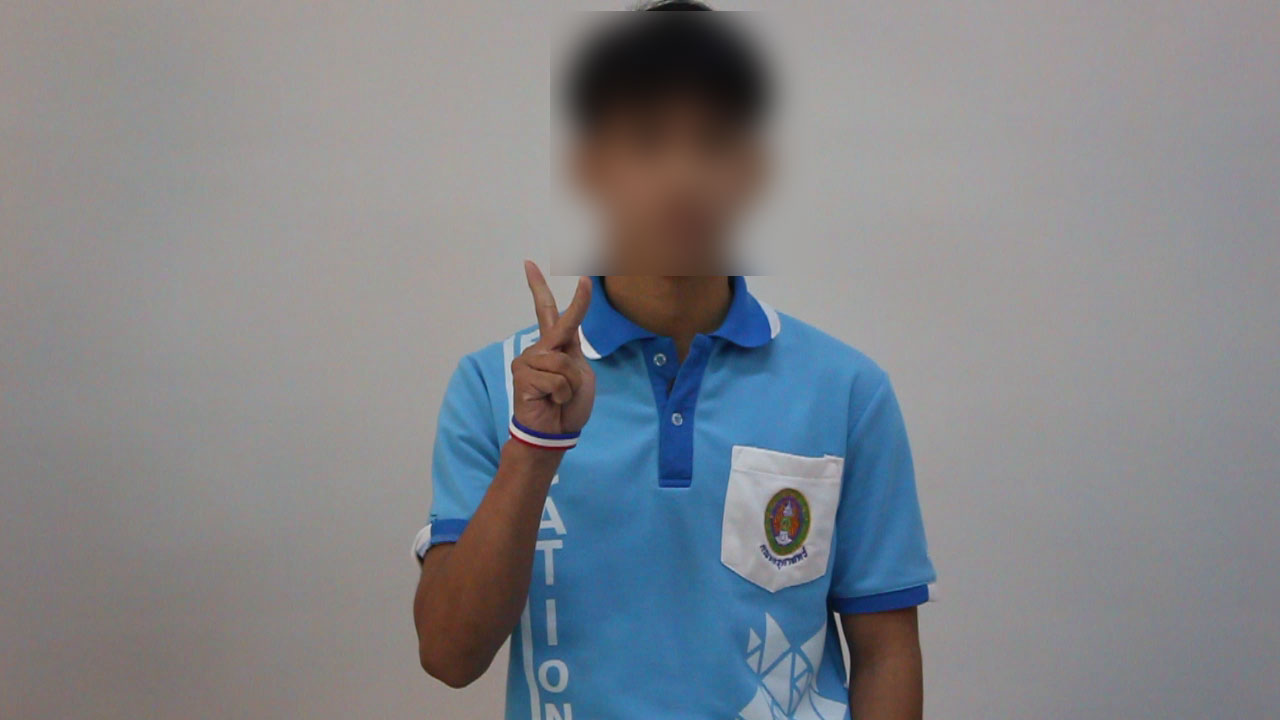ko: (473, 259, 607, 458)
